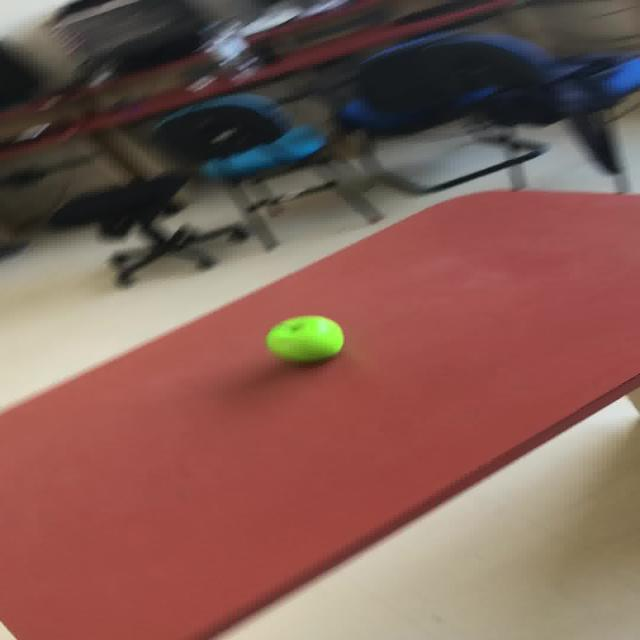apple: (263, 314, 344, 363)
